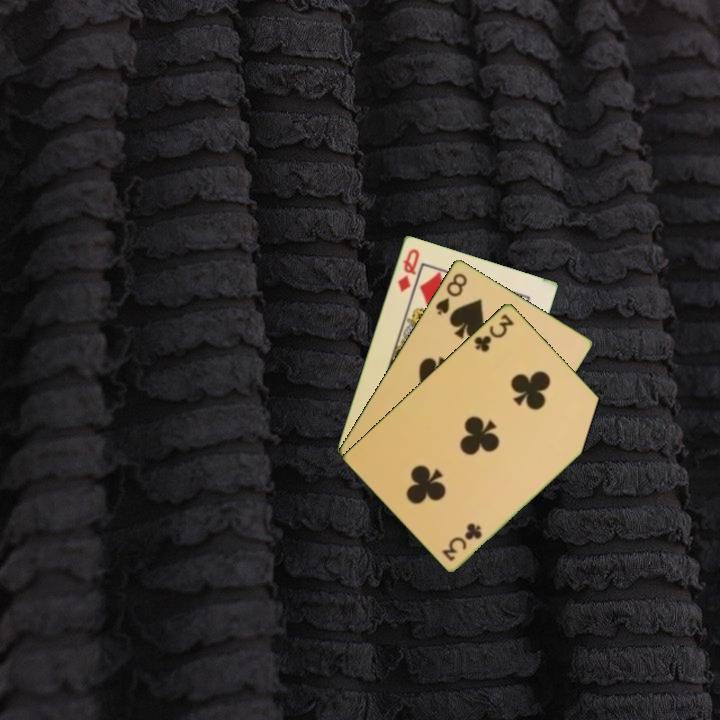3c: (470, 310, 517, 355), (439, 520, 485, 563)
8s: (432, 269, 470, 318)
Qd: (394, 245, 422, 295)
